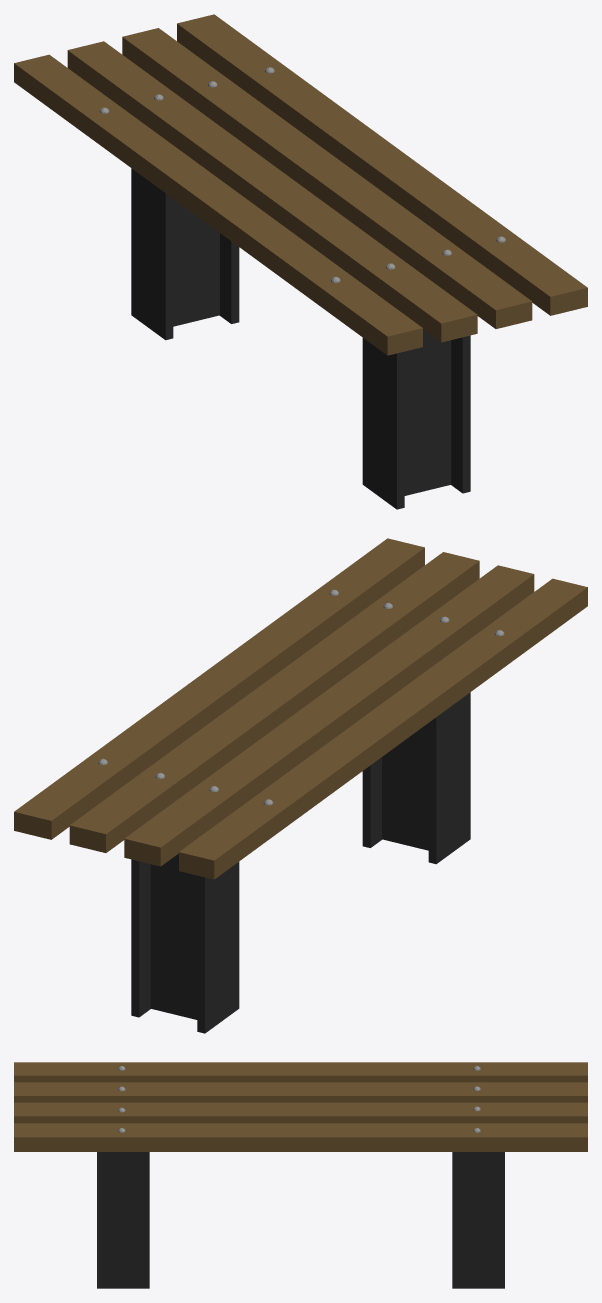
The model's file is Bench.fbx.
3 views of the same model, one above another, from view 1: azimuth 30°, elevation 25°; view 2: azimuth 150°, elevation 25°; view 3: azimuth 270°, elevation 25° (orthographic). The views are drawn at different scales.
Parts seen in each view (by area): view 1: Cube.005, Cube.002, Cube.004, Cube.003, Cube.001, Cube; view 2: Cube.005, Cube.002, Cube.004, Cube.003, Cube, Cube.001; view 3: Cube.005, Cube.004, Cube.002, Cube.003, Cube, Cube.001.
Part boxes in pixels (x1=…): Cube.005: x1=177, y1=14, x2=587, y2=315; Cube.002: x1=14, y1=54, x2=422, y2=355; Cube.004: x1=122, y1=28, x2=532, y2=328; Cube.003: x1=67, y1=41, x2=477, y2=342; Cube.001: x1=362, y1=329, x2=470, y2=509; Cube: x1=131, y1=168, x2=239, y2=340; Cube.005: x1=14, y1=538, x2=424, y2=839; Cube.002: x1=179, y1=578, x2=587, y2=879; Cube.004: x1=69, y1=552, x2=479, y2=852; Cube.003: x1=124, y1=565, x2=534, y2=866; Cube: x1=131, y1=853, x2=239, y2=1033; Cube.001: x1=362, y1=692, x2=470, y2=864; Cube.005: x1=14, y1=1123, x2=587, y2=1151; Cube.004: x1=14, y1=1102, x2=587, y2=1123; Cube.002: x1=14, y1=1062, x2=587, y2=1082; Cube.003: x1=14, y1=1082, x2=587, y2=1102; Cube: x1=452, y1=1152, x2=504, y2=1288; Cube.001: x1=97, y1=1152, x2=149, y2=1288.
Bounding box in the file's own units: 200 × 221 × 646.
